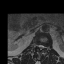CCS_normal: (40, 43, 42, 51)
LFS_stenosis: (44, 44, 46, 49)
LLS_normal: (42, 43, 44, 50)
RFS_stenosis: (36, 42, 38, 48)
RLS_normal: (38, 43, 40, 49)
